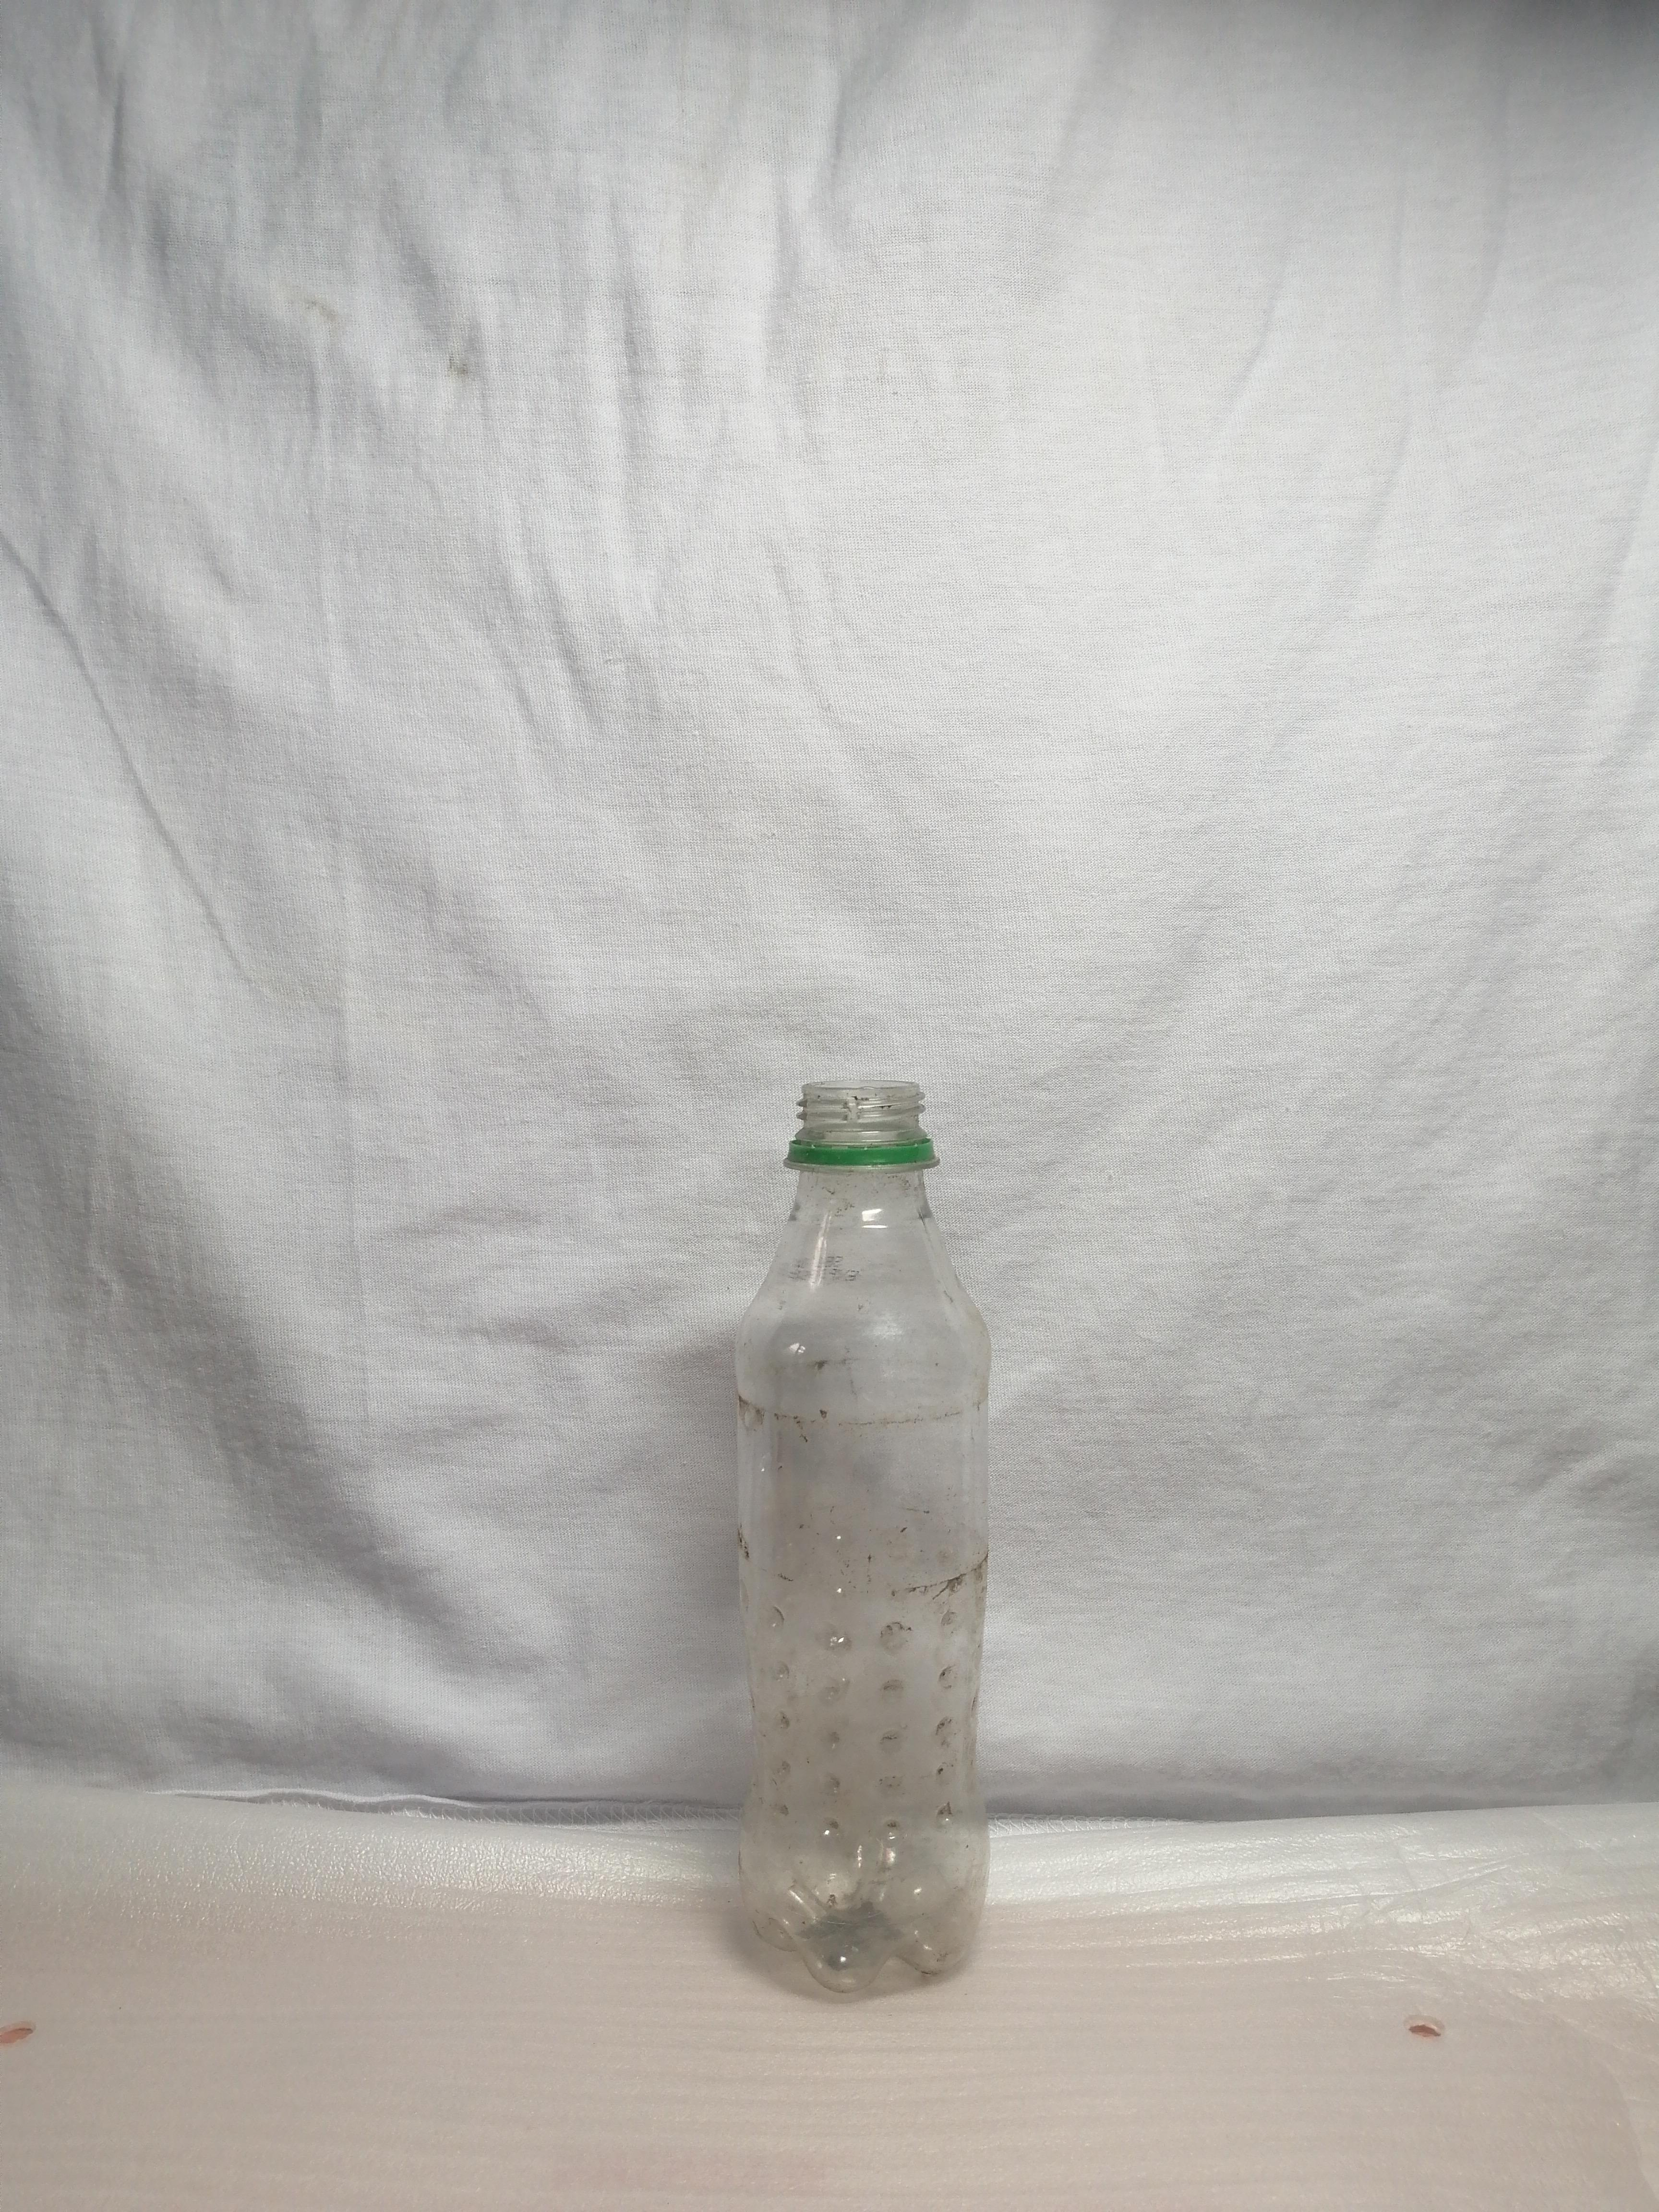plastic-bottle: (648, 1022, 1037, 2069)
